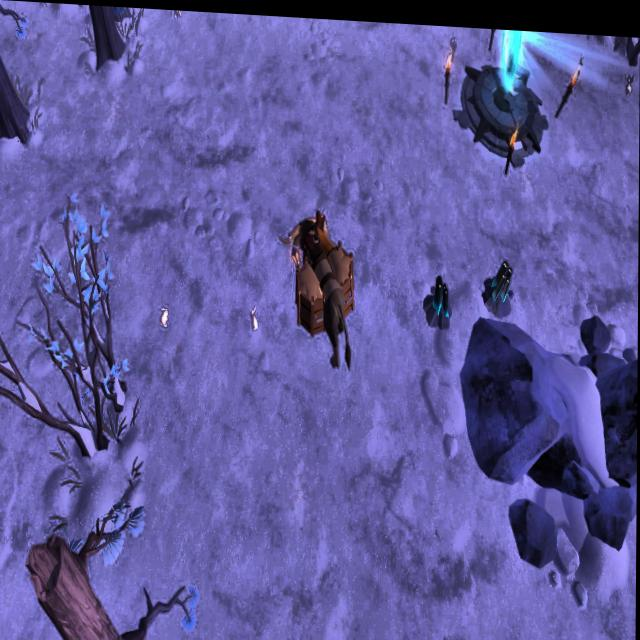ore_t4: (491, 245, 512, 300), (432, 266, 450, 315)
